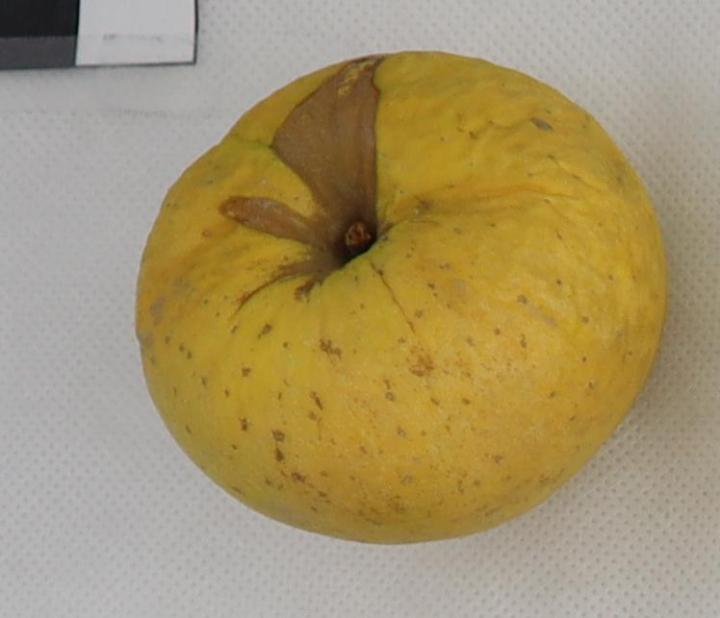apple: (137, 52, 666, 543)
bruise_discoloration: (219, 58, 383, 305)
